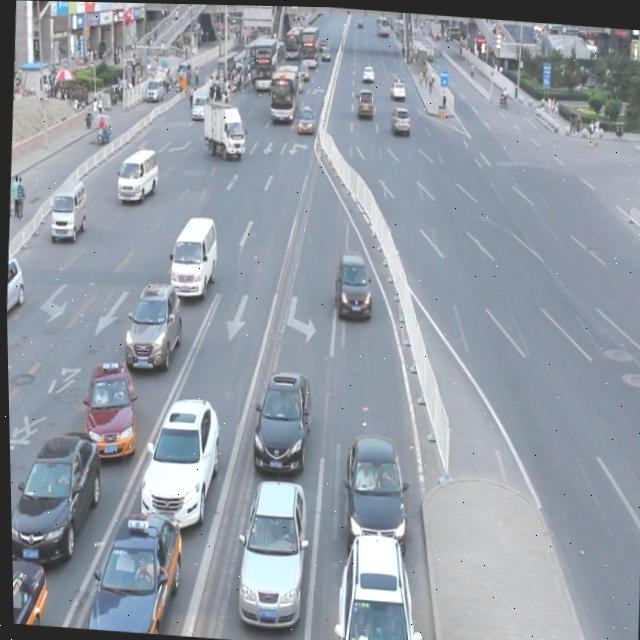car: (7, 423, 104, 571), (78, 502, 184, 635), (230, 470, 308, 630), (134, 390, 221, 531), (329, 525, 417, 640), (337, 428, 409, 551), (246, 365, 313, 476), (119, 276, 183, 373), (80, 358, 139, 463), (332, 247, 373, 320), (10, 554, 48, 626), (4, 254, 26, 322)
truck: (166, 212, 219, 299), (115, 146, 160, 205), (49, 177, 89, 242)
